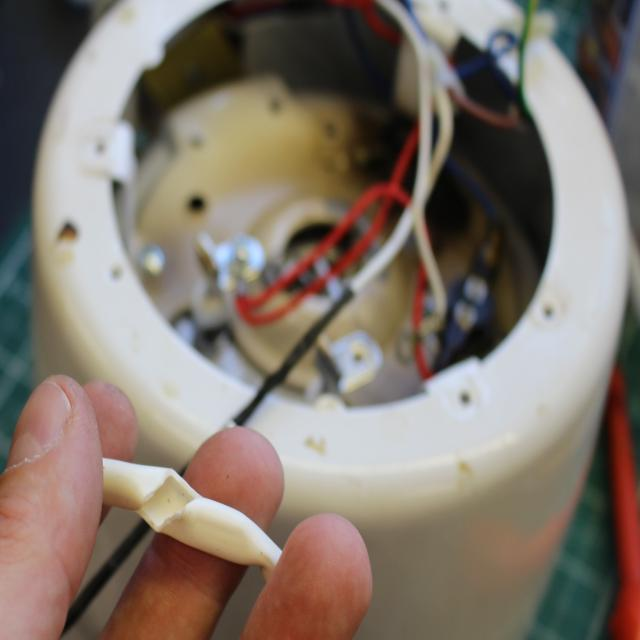fans: (225, 0, 520, 426), (65, 526, 146, 630), (518, 0, 538, 117), (520, 0, 536, 109), (467, 234, 499, 280), (415, 340, 431, 378), (462, 279, 484, 302), (473, 193, 491, 217), (448, 161, 465, 182), (465, 183, 473, 192), (271, 2, 280, 5), (468, 324, 472, 328), (491, 225, 496, 228), (478, 312, 480, 317), (458, 322, 460, 324), (452, 345, 455, 346), (471, 314, 472, 315), (478, 307, 479, 308), (468, 332, 468, 333), (459, 319, 459, 319)
